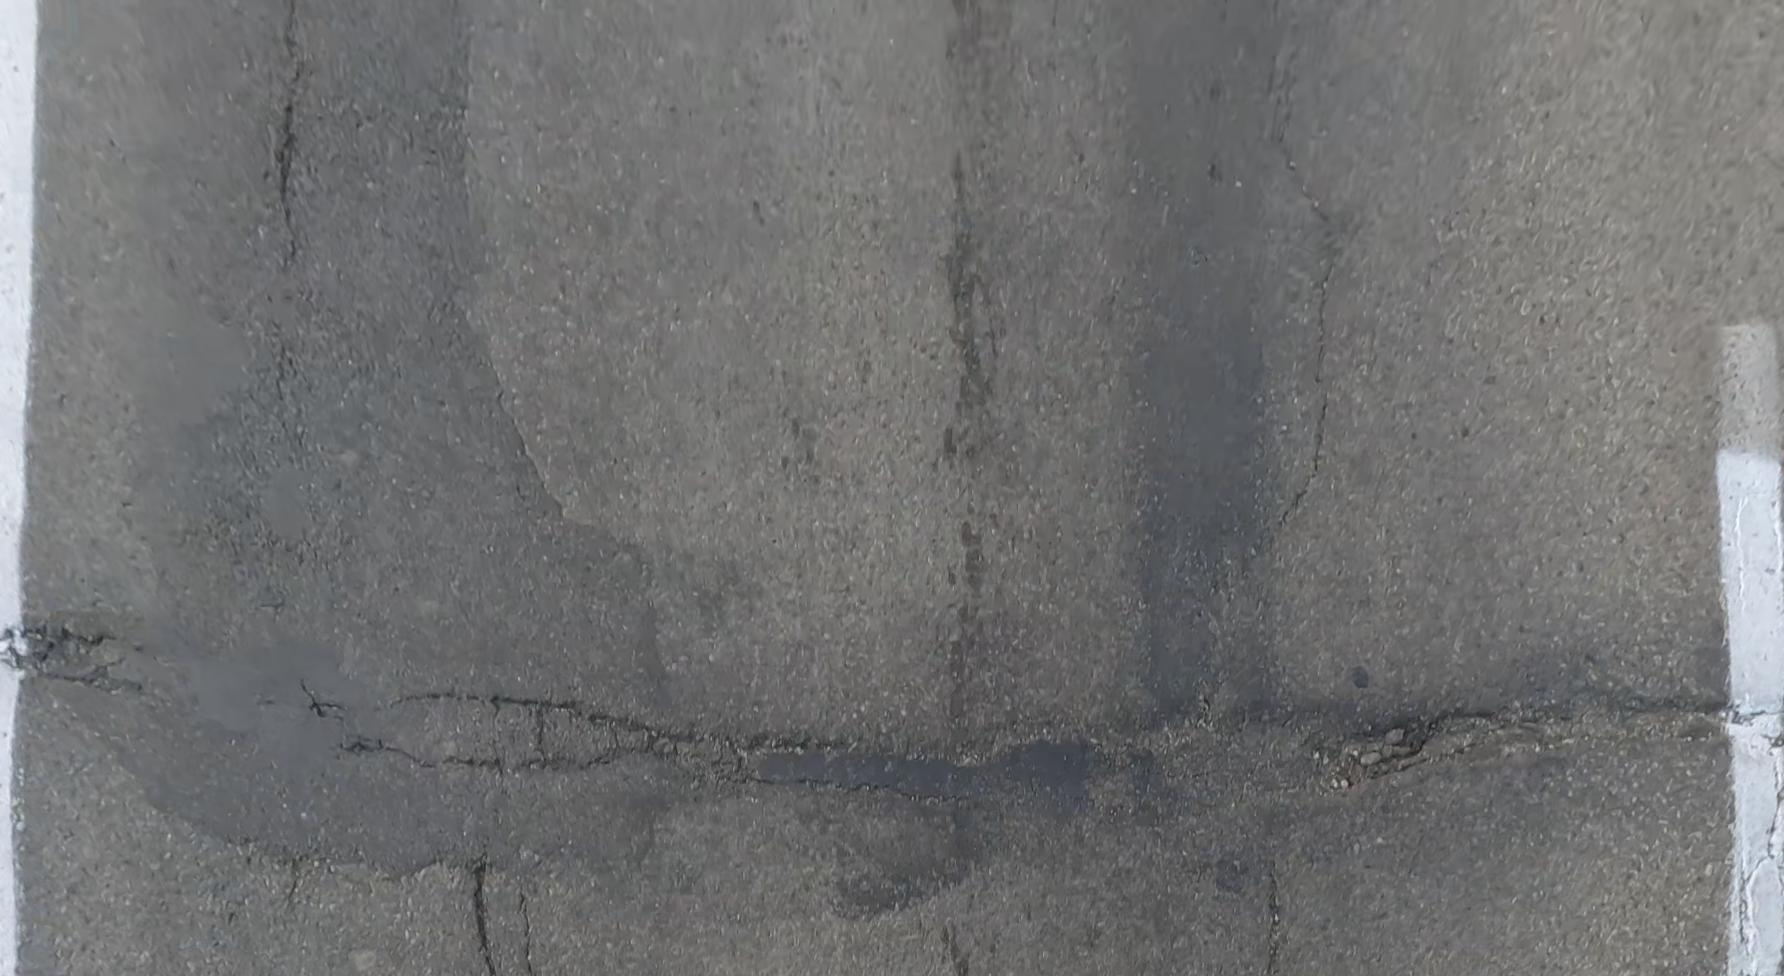pothole_patch_poor: (5, 0, 704, 877), (727, 721, 1183, 804), (1313, 710, 1550, 787)
